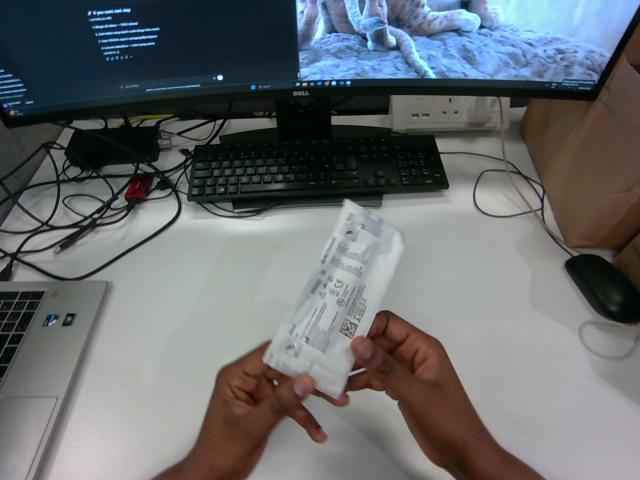syringe: (263, 200, 403, 397)
